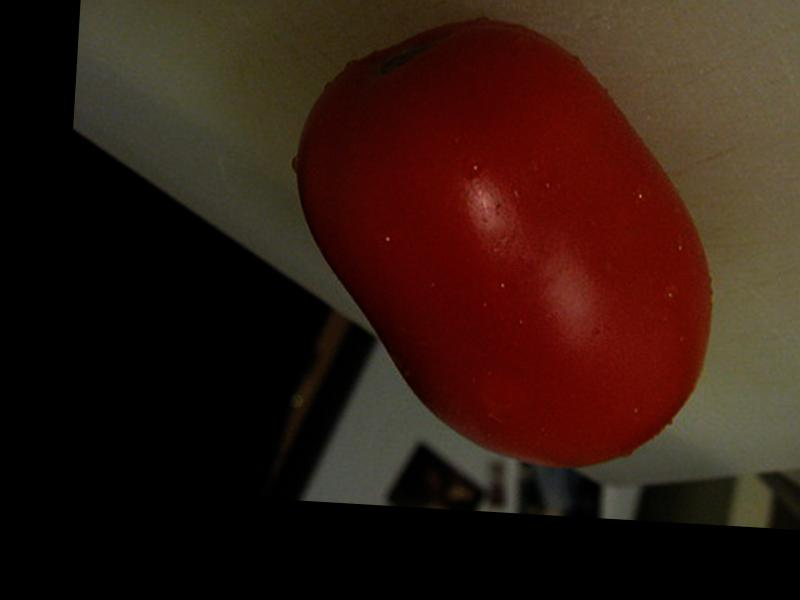Tomato: (278, 11, 726, 477)
